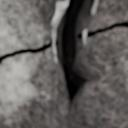broken_brick: (73, 27, 127, 127), (0, 51, 63, 127), (0, 0, 49, 53), (91, 0, 127, 28)
crack: (0, 0, 127, 127)
